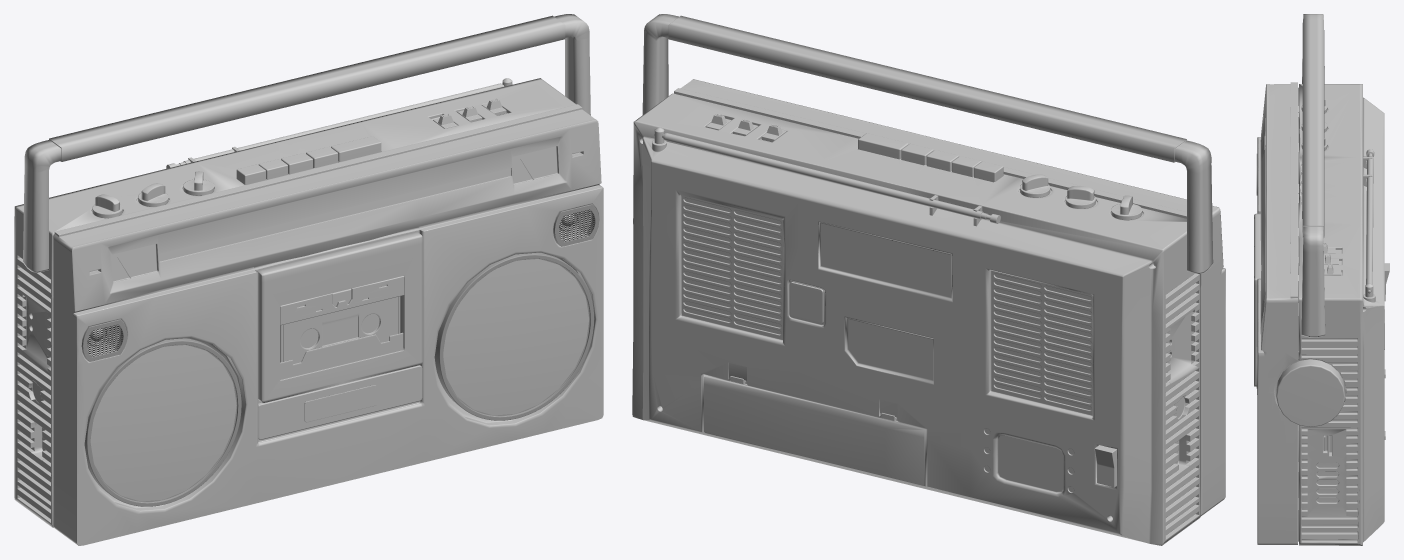
Rendered from radio.fbx.
3 views of the same model, side by side, from view 1: azimuth 30°, elevation 25°; view 2: azimuth 150°, elevation 25°; view 3: azimuth 270°, elevation 25° (orthographic). The views are drawn at different scales.
Parts seen in each view (by area): view 1: polySurface100, polySurface101, polySurface103, polySurface109, polySurface94, polySurface95, polySurface104, polySurface93, polySurface102, polySurface97; view 2: polySurface101, polySurface109, polySurface100, polySurface93; view 3: polySurface101, polySurface100, polySurface109, polySurface93, polySurface103.
Part boxes in pixels (left/top/right/bottom): polySurface100: left=53, top=104, right=603, bottom=545; polySurface101: left=14, top=78, right=577, bottom=528; polySurface103: left=257, top=232, right=422, bottom=439; polySurface109: left=23, top=14, right=590, bottom=345; polySurface94: left=443, top=259, right=588, bottom=415; polySurface95: left=90, top=345, right=236, bottom=501; polySurface104: left=81, top=204, right=598, bottom=506; polySurface93: left=92, top=83, right=512, bottom=218; polySurface102: left=280, top=285, right=400, bottom=364; polySurface97: left=87, top=209, right=594, bottom=356; polySurface101: left=632, top=91, right=1202, bottom=545; polySurface109: left=633, top=14, right=1213, bottom=487; polySurface100: left=674, top=79, right=1225, bottom=515; polySurface93: left=654, top=114, right=1142, bottom=420; polySurface101: left=1296, top=82, right=1384, bottom=545; polySurface100: left=1257, top=82, right=1298, bottom=544; polySurface109: left=1265, top=14, right=1389, bottom=450; polySurface93: left=1301, top=98, right=1385, bottom=439; polySurface103: left=1254, top=213, right=1261, bottom=394.
Size of the model in its own units: 10.34 by 6.72 by 2.62.
